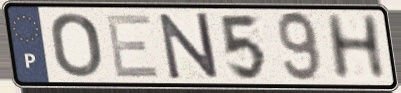5: (217, 12, 270, 82)
9: (276, 9, 326, 85)
E: (103, 12, 163, 80)
H: (322, 13, 390, 83)
N: (156, 11, 222, 82)
O: (48, 10, 104, 80)
